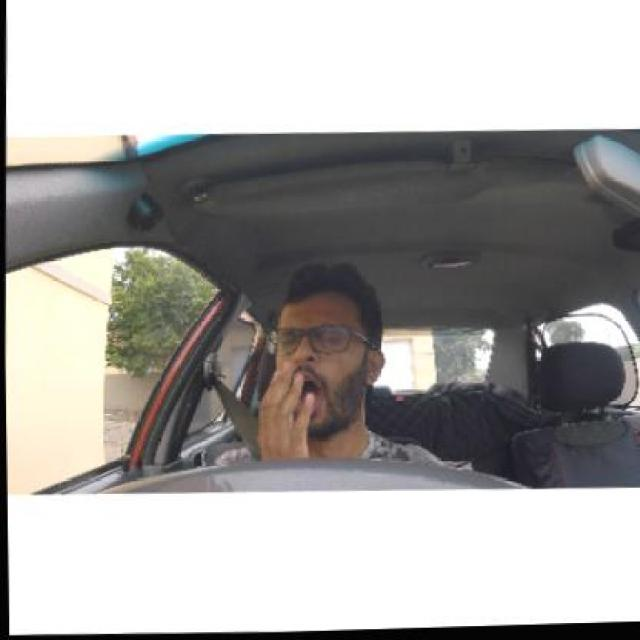drowsy: (264, 260, 390, 440)
